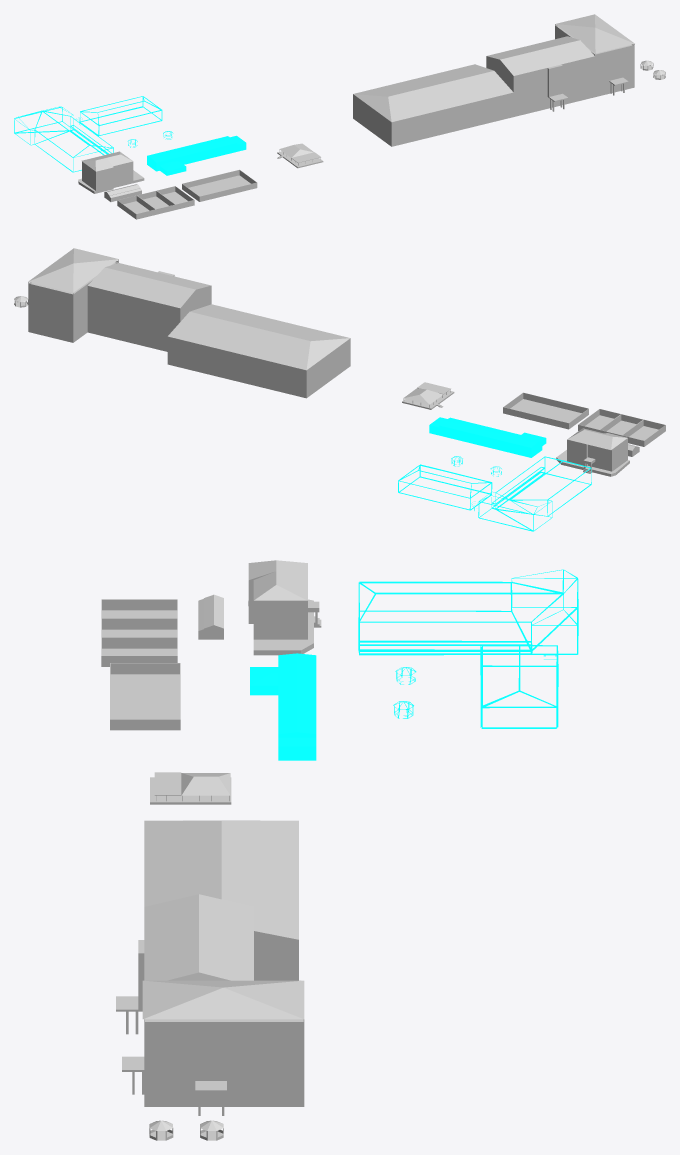
3 views of the same model, one above another, from view 1: azimuth 30°, elevation 25°; view 2: azimuth 150°, elevation 25°; view 3: azimuth 270°, elevation 25° (orthographic). The views are drawn at different scales.
Visible parts, largest first — view 1: SketchUp.048, SketchUp.030, SketchUp.022, SketchUp.002, SketchUp.029, SketchUp.003, SketchUp.024, SketchUp.028, SketchUp.031, SketchUp.023, SketchUp.026, SketchUp.025 (+1 smaller); view 2: SketchUp.048, SketchUp.022, SketchUp.030, SketchUp.002, SketchUp.029, SketchUp.003, SketchUp.028, SketchUp.031, SketchUp.024, SketchUp.026, SketchUp.025, SketchUp.027; view 3: SketchUp.048, SketchUp.022, SketchUp.030, SketchUp.002, SketchUp.029, SketchUp.031, SketchUp.026, SketchUp.025, SketchUp.027, SketchUp.003, SketchUp.023, SketchUp.028 (+2 smaller).
Part boxes in pixels (x1,y1,x2,y2): SketchUp.048: (353, 14, 634, 146); SketchUp.030: (147, 135, 246, 175); SketchUp.022: (78, 151, 144, 193); SketchUp.002: (14, 106, 113, 172); SketchUp.029: (182, 170, 256, 196); SketchUp.003: (76, 96, 162, 136); SketchUp.024: (117, 186, 194, 219); SketchUp.028: (182, 169, 257, 201); SketchUp.031: (279, 143, 320, 162); SketchUp.023: (104, 184, 141, 201); SketchUp.026: (137, 191, 174, 208); SketchUp.025: (118, 195, 154, 213); SketchUp.048: (28, 248, 350, 398); SketchUp.022: (556, 428, 629, 476); SketchUp.030: (429, 417, 546, 457); SketchUp.002: (478, 456, 591, 531); SketchUp.029: (504, 393, 587, 422); SketchUp.003: (398, 464, 492, 510); SketchUp.028: (503, 392, 588, 429); SketchUp.031: (403, 382, 450, 404); SketchUp.024: (578, 409, 665, 446); SketchUp.026: (600, 414, 642, 435); SketchUp.025: (622, 420, 664, 440); SketchUp.027: (579, 409, 620, 429); SketchUp.048: (116, 820, 304, 1106); SketchUp.022: (248, 560, 321, 655); SketchUp.030: (250, 653, 316, 760); SketchUp.002: (358, 569, 578, 655); SketchUp.029: (110, 663, 179, 719); SketchUp.031: (154, 772, 230, 795); SketchUp.026: (102, 618, 177, 637); SketchUp.025: (102, 599, 177, 617); SketchUp.027: (102, 637, 177, 655); SketchUp.003: (480, 645, 558, 728); SketchUp.023: (198, 594, 223, 639); SketchUp.028: (110, 663, 180, 730).
Size of the model in its own units: 306 by 26.98 by 115.
